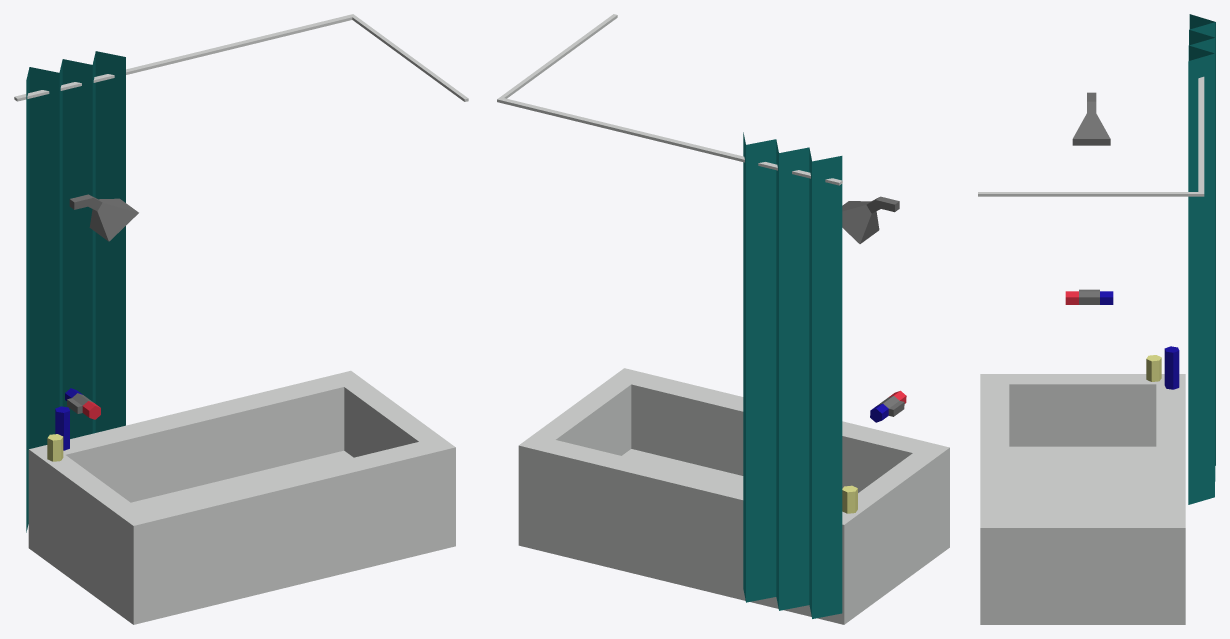
Rendered from vaaaaanna.fbx.
3 views of the same model, side by side, from view 1: azimuth 30°, elevation 25°; view 2: azimuth 150°, elevation 25°; view 3: azimuth 270°, elevation 25° (orthographic). The views are drawn at different scales.
Visible parts, largest first — view 1: vanna; view 2: vanna; view 3: vanna.
Boxes of the visible parts, x1,y1,x2,y2 form: vanna: (14,14,468,624); vanna: (497,14,949,624); vanna: (978,14,1215,624).
Bounding box in the file's own units: 286 × 375 × 177.
